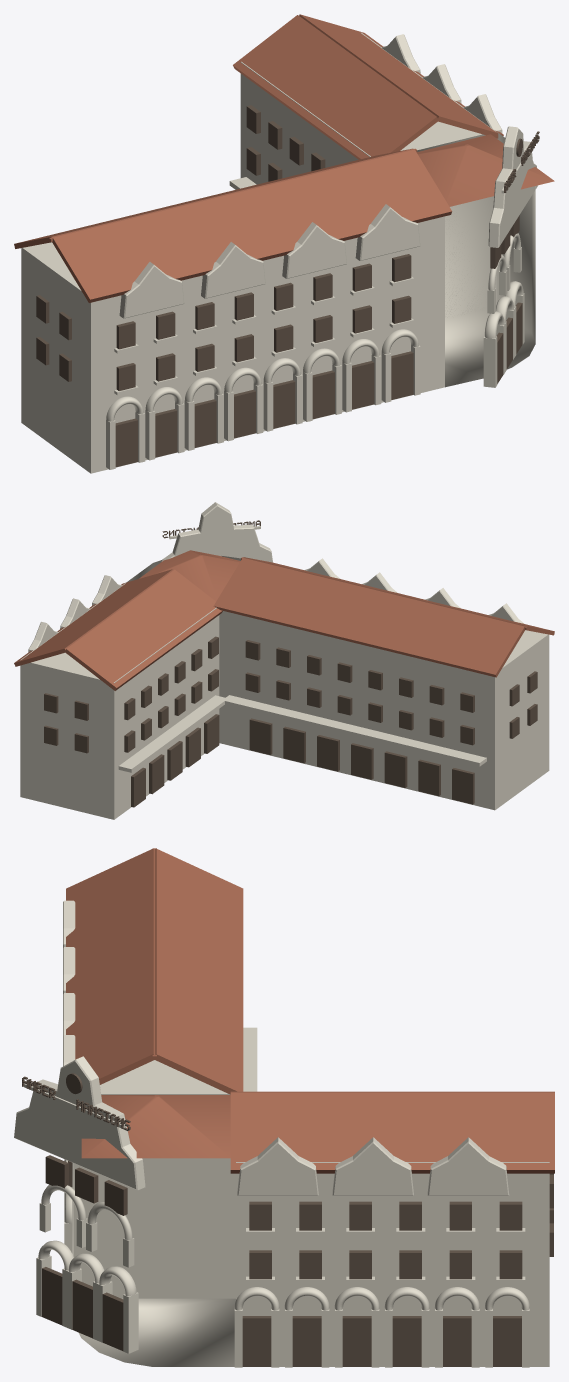
The model's file is amber-mansions.glb.
3 views of the same model, one above another, from view 1: azimuth 30°, elevation 25°; view 2: azimuth 150°, elevation 25°; view 3: azimuth 270°, elevation 25° (orthographic). The views are drawn at different scales.
Visible parts, largest first — view 1: orchard-road-wing/form, terracotta-roofs/orchard-roof-front, penang-roof/lane-roof-left, bowed-corner-block/convex-corner-mass, penang-lane-wing/form, corner-roof-junction/hipped-corner-roof, penang-roof/lane-roof-right, corner-dutch-gable/main-dutch-gable, repeated-dutch-gables/gable-orchard-3, repeated-dutch-gables/gable-orchard-0, repeated-dutch-gables/gable-orchard-1, repeated-dutch-gables/gable-orchard-2 (+13 smaller); view 2: orchard-road-wing/form, penang-lane-wing/form, terracotta-roofs/orchard-roof-rear, penang-roof/lane-roof-left, corner-dutch-gable/main-dutch-gable, rear-window-rhythm/courtyard-orchard-canopy, penang-roof/lane-roof-right, corner-roof-junction/hipped-corner-roof, rear-window-rhythm/courtyard-lane-canopy, terracotta-roofs/orchard-roof-front, rear-window-rhythm/rear-service-door-3, rear-window-rhythm/rear-service-door-7 (+13 smaller); view 3: penang-lane-wing/form, penang-roof/lane-roof-right, orchard-road-wing/form, terracotta-roofs/orchard-roof-rear, terracotta-roofs/orchard-roof-front, corner-dutch-gable/main-dutch-gable, corner-roof-junction/hipped-corner-roof, bowed-corner-block/convex-corner-mass, repeated-dutch-gables/gable-penang-1, repeated-dutch-gables/gable-penang-2, repeated-dutch-gables/gable-penang-0, shopfront-insets/penang-shopfront-1 (+26 smaller).
Part boxes in pixels (x1,y1,x2,y2): orchard-road-wing/form: (21, 216, 444, 473); terracotta-roofs/orchard-roof-front: (52, 149, 452, 302); penang-roof/lane-roof-left: (233, 15, 437, 159); bowed-corner-block/convex-corner-mass: (417, 131, 535, 387); penang-lane-wing/form: (240, 32, 495, 317); corner-roof-junction/hipped-corner-roof: (417, 134, 554, 206); penang-roof/lane-roof-right: (299, 14, 503, 138); corner-dutch-gable/main-dutch-gable: (488, 126, 537, 247); repeated-dutch-gables/gable-orchard-3: (355, 204, 420, 260); repeated-dutch-gables/gable-orchard-0: (119, 262, 184, 318); repeated-dutch-gables/gable-orchard-1: (201, 242, 265, 298); repeated-dutch-gables/gable-orchard-2: (282, 222, 346, 278); orchard-road-wing/form: (219, 611, 549, 810); penang-lane-wing/form: (20, 583, 219, 819); terracotta-roofs/orchard-roof-rear: (214, 558, 524, 677); penang-roof/lane-roof-left: (65, 569, 222, 690); corner-dutch-gable/main-dutch-gable: (161, 502, 272, 562); rear-window-rhythm/courtyard-orchard-canopy: (225, 695, 486, 766); penang-roof/lane-roof-right: (14, 569, 173, 666); corner-roof-junction/hipped-corner-roof: (139, 550, 240, 601); rear-window-rhythm/courtyard-lane-canopy: (118, 695, 227, 772); terracotta-roofs/orchard-roof-front: (243, 557, 554, 635); rear-window-rhythm/rear-service-door-3: (384, 751, 407, 787); rear-window-rhythm/rear-service-door-7: (249, 718, 272, 754); penang-lane-wing/form: (236, 1162, 549, 1366); penang-roof/lane-roof-right: (230, 1092, 554, 1173); orchard-road-wing/form: (73, 1060, 235, 1298); terracotta-roofs/orchard-roof-rear: (154, 848, 243, 1094); terracotta-roofs/orchard-roof-front: (66, 848, 155, 1084); corner-dutch-gable/main-dutch-gable: (14, 1056, 145, 1189); corner-roof-junction/hipped-corner-roof: (81, 1095, 230, 1158); bowed-corner-block/convex-corner-mass: (72, 1162, 235, 1366); repeated-dutch-gables/gable-penang-1: (332, 1137, 414, 1195); repeated-dutch-gables/gable-penang-2: (427, 1137, 509, 1195); repeated-dutch-gables/gable-penang-0: (237, 1137, 318, 1195); shopfront-insets/penang-shopfront-1: (242, 1316, 271, 1366).
Bounding box in the file's own units: 18.66 × 8.79 × 15.34.
